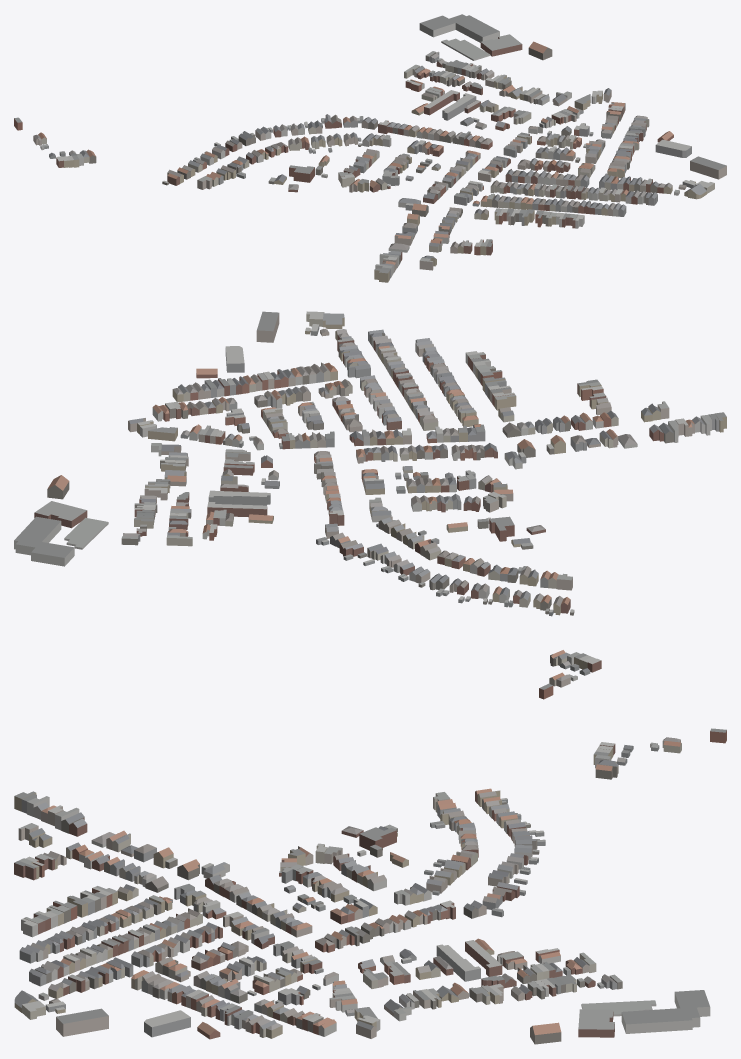
The picture shows the model from 3 angles, top to bottom: view 1: azimuth 30°, elevation 25°; view 2: azimuth 150°, elevation 25°; view 3: azimuth 270°, elevation 25°; orthographic projection. The views are drawn at different scales.
Parts seen in each view (by area): view 1: way/450044400, way/450044401, way/856809239, way/1393566221, way/913223728; view 2: way/450044400, way/450044401, way/897546292, way/1393566221, way/897546293, way/856809239; view 3: way/450044400, way/856809239, way/450044401, way/913223728, way/897546292, way/1393566221, way/897546293, way/897613618, way/293967623.
Boxes of the visible parts, x1,y1,x2,y2 form: way/450044400: [419, 14, 499, 42]; way/450044401: [480, 34, 522, 56]; way/856809239: [690, 156, 726, 179]; way/1393566221: [441, 38, 490, 60]; way/913223728: [655, 139, 691, 157]; way/450044400: [14, 516, 74, 566]; way/450044401: [34, 501, 87, 528]; way/897546292: [208, 490, 270, 505]; way/1393566221: [64, 517, 108, 549]; way/897546293: [207, 502, 267, 517]; way/856809239: [256, 311, 279, 342]; way/450044400: [621, 990, 710, 1033]; way/856809239: [56, 1008, 108, 1036]; way/450044401: [578, 1009, 614, 1037]; way/913223728: [144, 1010, 190, 1037]; way/897546292: [436, 944, 480, 981]; way/1393566221: [581, 1000, 656, 1016]; way/897546293: [465, 940, 502, 976]; way/897613618: [359, 827, 396, 850]; way/293967623: [530, 1022, 561, 1044].
Size of the model in its own units: 511 by 34.32 by 487.
